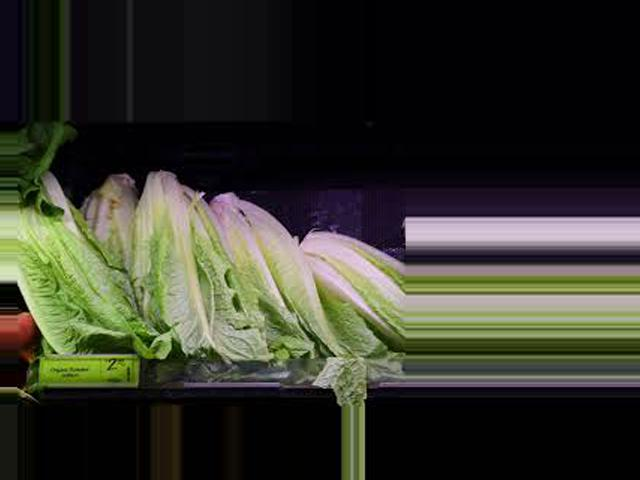lettuce: (290, 224, 407, 348)
